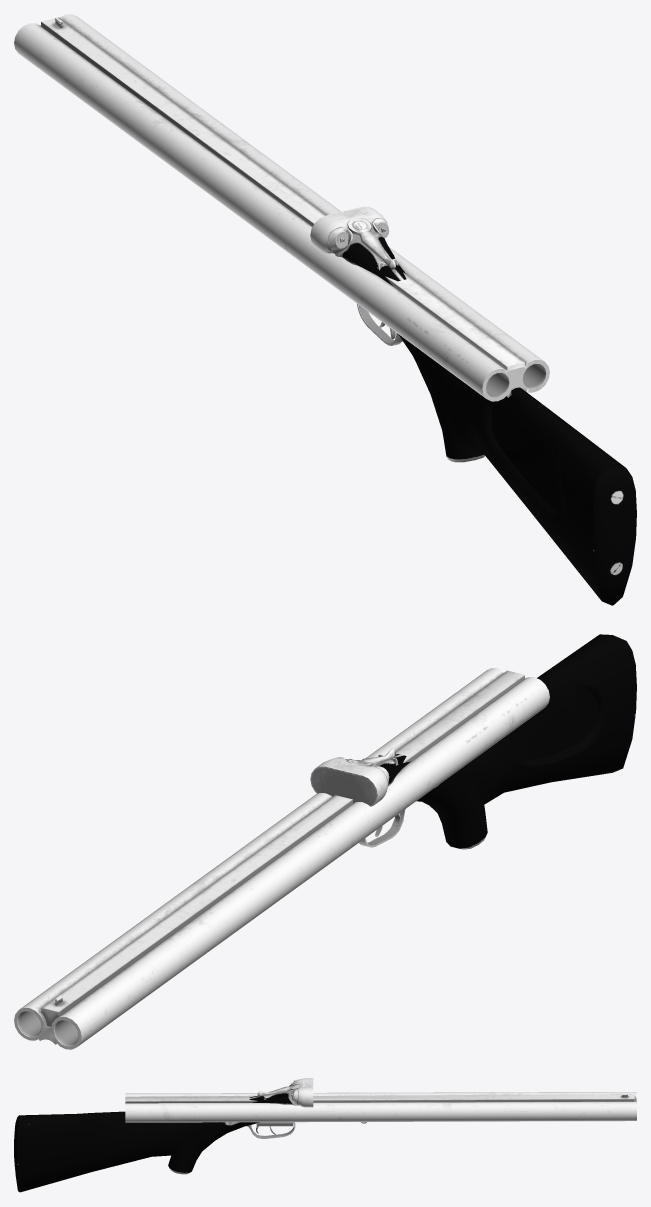
The model's file is shotgun.fbx.
3 renders of one model, top to bottom at view 1: azimuth 30°, elevation 25°; view 2: azimuth 150°, elevation 25°; view 3: azimuth 270°, elevation 25°, orthographic. The views are drawn at different scales.
Parts seen in each view (by area): view 1: double_-_barreled_shotgun_L_double_-_barreled_shotgun_LP_к.0, double_-_barreled_shotgun_L_double_-_barreled_shotgun_LP_к; view 2: double_-_barreled_shotgun_L_double_-_barreled_shotgun_LP_к.0, double_-_barreled_shotgun_L_double_-_barreled_shotgun_LP_к; view 3: double_-_barreled_shotgun_L_double_-_barreled_shotgun_LP_к.0, double_-_barreled_shotgun_L_double_-_barreled_shotgun_LP_к, pack_of_cartridges_LP_Цилиндр_Цилиндр.014_pack_of.
Boxes of the visible parts, <box> form: double_-_barreled_shotgun_L_double_-_barreled_shotgun_LP_к.0: <box>14,14,549,401</box>; double_-_barreled_shotgun_L_double_-_barreled_shotgun_LP_к: <box>310,206,636,605</box>; double_-_barreled_shotgun_L_double_-_barreled_shotgun_LP_к.0: <box>14,668,549,1049</box>; double_-_barreled_shotgun_L_double_-_barreled_shotgun_LP_к: <box>310,634,636,849</box>; double_-_barreled_shotgun_L_double_-_barreled_shotgun_LP_к.0: <box>125,1092,636,1123</box>; double_-_barreled_shotgun_L_double_-_barreled_shotgun_LP_к: <box>14,1078,313,1192</box>; pack_of_cartridges_LP_Цилиндр_Цилиндр.014_pack_of: <box>256,1122,293,1127</box>.
Size of the model in its own units: 438 by 1226 by 6393.
